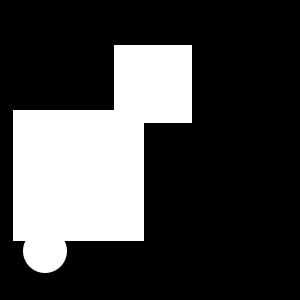circle: (13, 110, 144, 241), (114, 45, 192, 123)
rectangle: (23, 229, 67, 273)
triangle: (82, 229, 94, 241)
